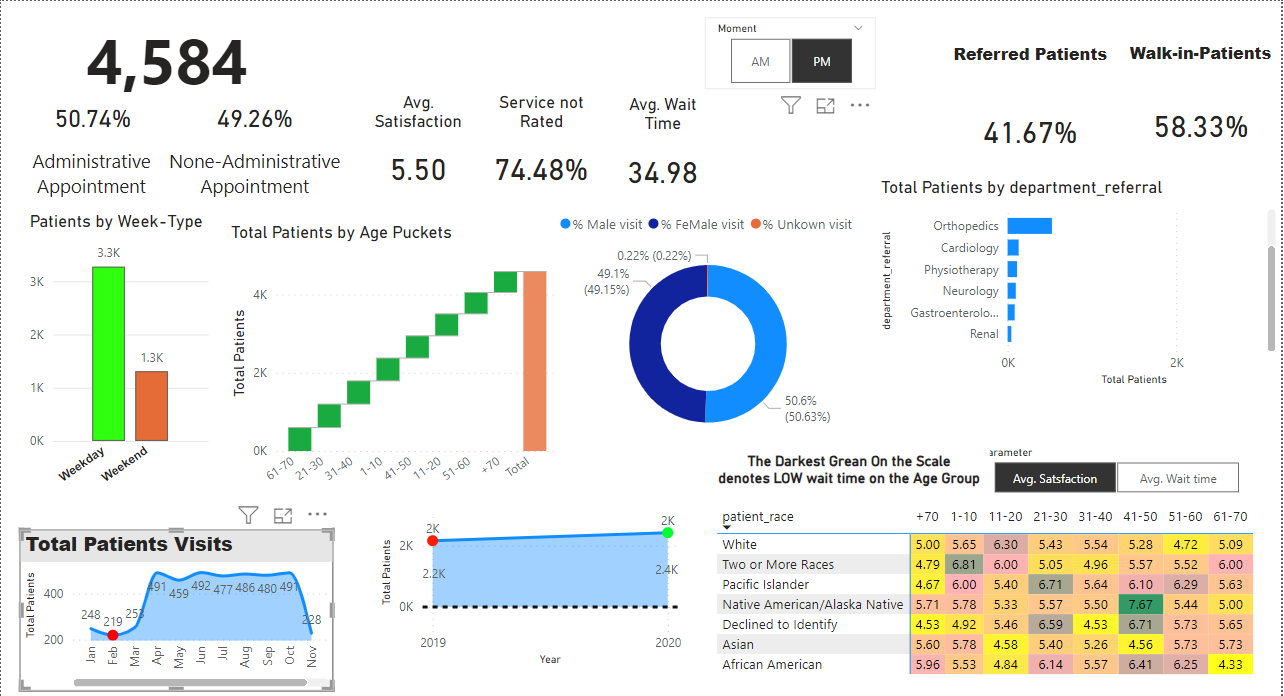

What the dashboard file says about the page in this screenshot:
{"tool":"powerbi","page":{"name":"Page 1","canvas":[1280,720],"ordinal":0},"visuals":[{"type":"card","fields":{"Values":["Calculations.Total Patients"]},"box":[22.5,2.5,332.5,111.2],"z":0},{"type":"card","fields":{"Values":["Calculations.% Adminstraive Schedule"]},"box":[33.8,88.8,135,82.5],"z":1000},{"type":"card","fields":{"Values":["Calculations.% Non_Adminstraive Schedule"]},"box":[201.2,87.5,135,82.5],"z":2000},{"type":"card","title":"Avg. Satisfaction","fields":{"Values":["Calculations.Average Satsfaction"]},"box":[370,62.5,111.2,111.2],"z":3000},{"type":"card","title":"Service not Rated","fields":{"Values":["Calculations.%No Rating"]},"box":[492.5,61.2,113.8,126.2],"z":4000},{"type":"card","title":"Avg. Wait Time","fields":{"Values":["Calculations.Avverage Wait time"]},"box":[621.2,65,98.8,116.2],"z":5000},{"type":"pivotTable","fields":{"Values":["Calculations.Average Wait time"],"Columns":["Patients Dataset.Age Puckets"],"Rows":["Patients Dataset.patient_race"]},"box":[720,518.8,558.8,191.2],"z":6000},{"type":"slicer","fields":{"Values":["Parameter.Parameter"]},"box":[1021.2,467.5,258.8,58.8],"z":7000},{"type":"waterfallChart","fields":{"Category":["Patients Dataset.Age Puckets"],"Y":["Calculations.Total Patients"]},"box":[245,252.5,305,247.5],"z":8000},{"type":"areaChart","title":"Total Patients Visits","fields":{"Category":["Date.Month"],"Y":["Calculations.Total Patients"]},"box":[27.5,528.8,327.5,176.2],"z":9000},{"type":"stackedAreaChart","title":"Total Patients Visits","fields":{"Category":["Date.Year "],"Y":["Calculations.Total Patients"]},"box":[392.5,543.8,272.5,166.2],"z":10000},{"type":"card","fields":{"Values":["Calculations.% referred Pationts"]},"box":[931.2,100,111.2,73.8],"z":11000},{"type":"card","fields":{"Values":["Calculations.% UN referred Pationts"]},"box":[1137.5,100,123.8,68.8],"z":12000},{"type":"clusteredBarChart","fields":{"Y":["Calculations.Total Patients"],"Category":["Patients Dataset.department_referral"]},"box":[896.2,208.8,377.5,248.8],"z":13000},{"type":"card","fields":{"Values":["Calculations.HitMap Caption"]},"box":[710,470,311.2,58.8],"z":14000},{"type":"slicer","fields":{"Values":["Patients Dataset.Moment"]},"box":[740,55,111.2,147.5],"z":15000},{"type":"textbox","box":[21.2,142.5,151.2,66.2],"z":16000},{"type":"textbox","box":[161.2,142.5,215,60],"z":17000},{"type":"textbox","box":[1113.8,47.5,160,73.8],"z":18000},{"type":"textbox","box":[901.2,42.5,166.2,73.8],"z":19000},{"type":"clusteredColumnChart","title":"Patients by Week-Type","fields":{"Y":["Calculations.Total Patients"],"Category":["Date.Week-Type"]},"box":[43.8,252.5,188.8,247.5],"z":20000},{"type":"donutChart","fields":{"Y":["Calculations.% Male visit","Calculations.% FeMale visit","Calculations.% Unkown visit"]},"box":[550,208.8,337.5,270],"z":21000}]}

Visuals, with their boxes on the page's 1280x720 design canvas (x1, y1, x2, y2). These are canvas units, not pixel positions in the 1284x696 screenshot, which may show the page scaled, cropped or inside an application window:
card - Calculations.Total Patients: 22/2/355/114
card - Calculations.% Adminstraive Schedule: 34/89/169/171
card - Calculations.% Non_Adminstraive Schedule: 201/88/336/170
"Avg. Satisfaction" card: 370/62/481/174
"Service not Rated" card: 492/61/606/187
"Avg. Wait Time" card: 621/65/720/181
pivotTable - Calculations.Average Wait time x Patients Dataset.Age Puckets: 720/519/1279/710
slicer - Parameter.Parameter: 1021/468/1280/526
waterfallChart - Patients Dataset.Age Puckets x Calculations.Total Patients: 245/252/550/500
"Total Patients Visits" areaChart: 28/529/355/705
"Total Patients Visits" stackedAreaChart: 392/544/665/710
card - Calculations.% referred Pationts: 931/100/1042/174
card - Calculations.% UN referred Pationts: 1138/100/1261/169
clusteredBarChart - Calculations.Total Patients x Patients Dataset.department_referral: 896/209/1274/458
card - Calculations.HitMap Caption: 710/470/1021/529
slicer - Patients Dataset.Moment: 740/55/851/202
textbox: 21/142/172/209
textbox: 161/142/376/202
textbox: 1114/48/1274/121
textbox: 901/42/1067/116
"Patients by Week-Type" clusteredColumnChart: 44/252/233/500
donutChart - Calculations.% Male visit x Calculations.% FeMale visit: 550/209/888/479
